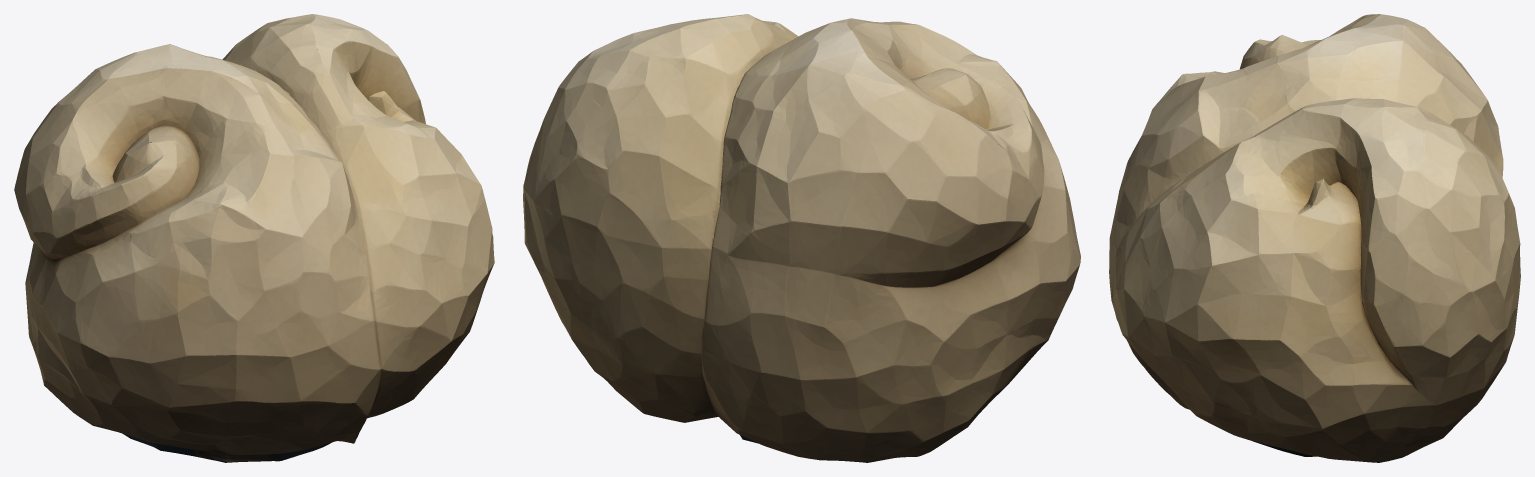
3 renders of one model, left to right at view 1: azimuth 30°, elevation 25°; view 2: azimuth 150°, elevation 25°; view 3: azimuth 270°, elevation 25°, orthographic. The views are drawn at different scales.
Parts seen in each view (by area): view 1: geometry_0; view 2: geometry_0; view 3: geometry_0.
Part boxes in pixels (<box>): geometry_0: <box>14,14,494,462</box>; geometry_0: <box>523,14,1080,462</box>; geometry_0: <box>1109,14,1520,462</box>.
Size of the model in its own units: 0.9569 by 0.7694 by 0.8175.
Materials: 1 (1 with a texture image).
